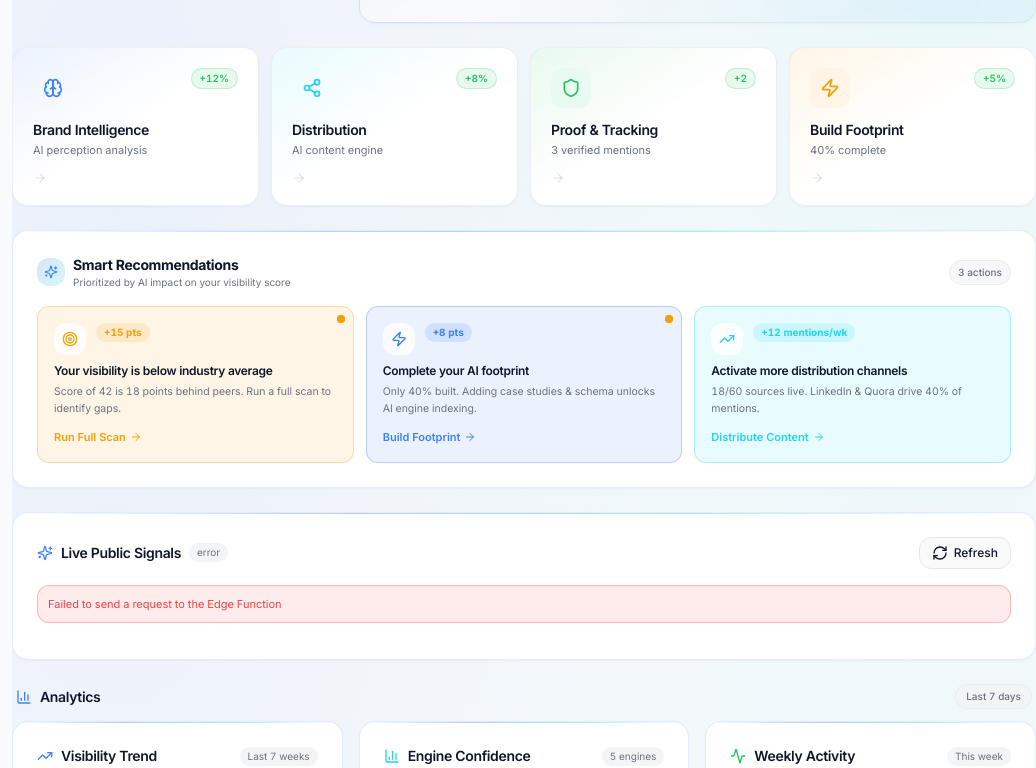
it: Overview page (smoke) › NextBestAction 'Run Full Scan' link navigates to /dashboard/scan
(page scrolled)
Step 1. Click the link "Run Full Scan" → (195, 384), box [37,306,354,463]
(page scrolled)
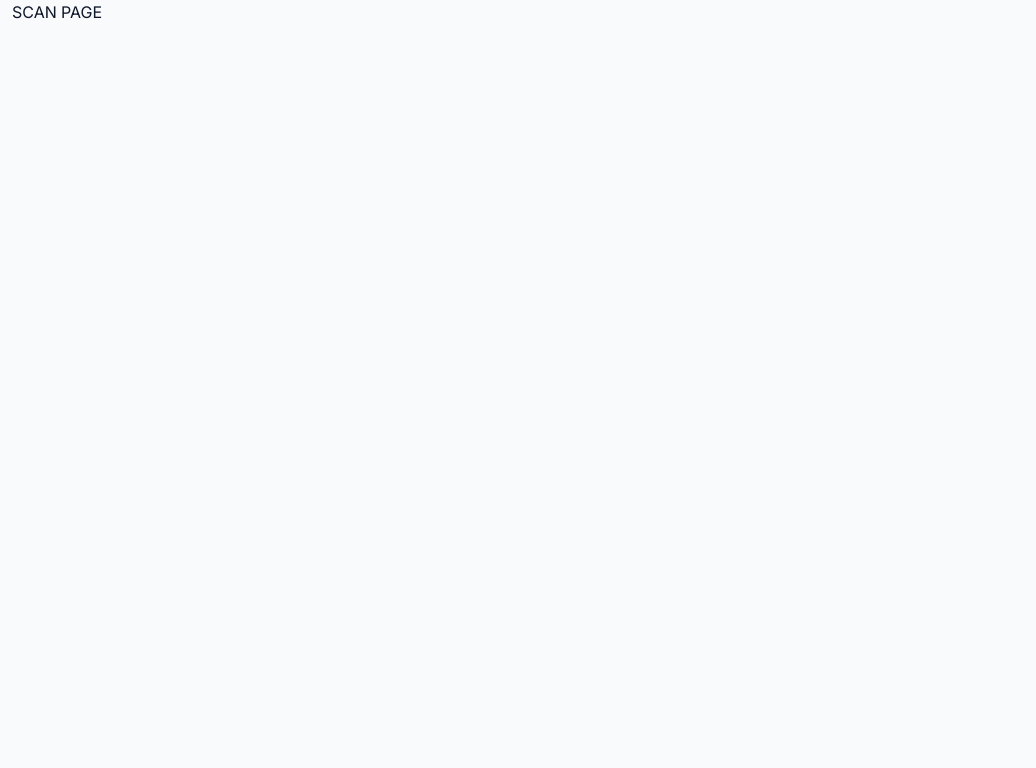
Now the text "SCAN PAGE" is shown, box [12,2,102,22]
